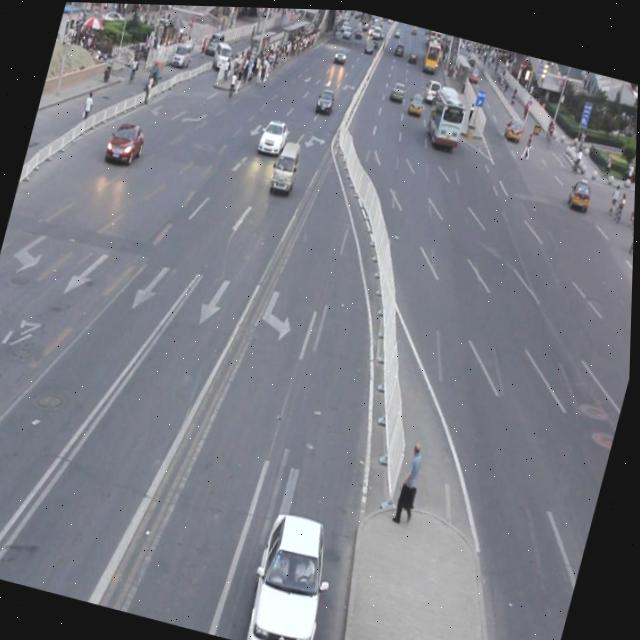car: (241, 501, 345, 640), (104, 116, 149, 167)
truck: (269, 136, 304, 191)
